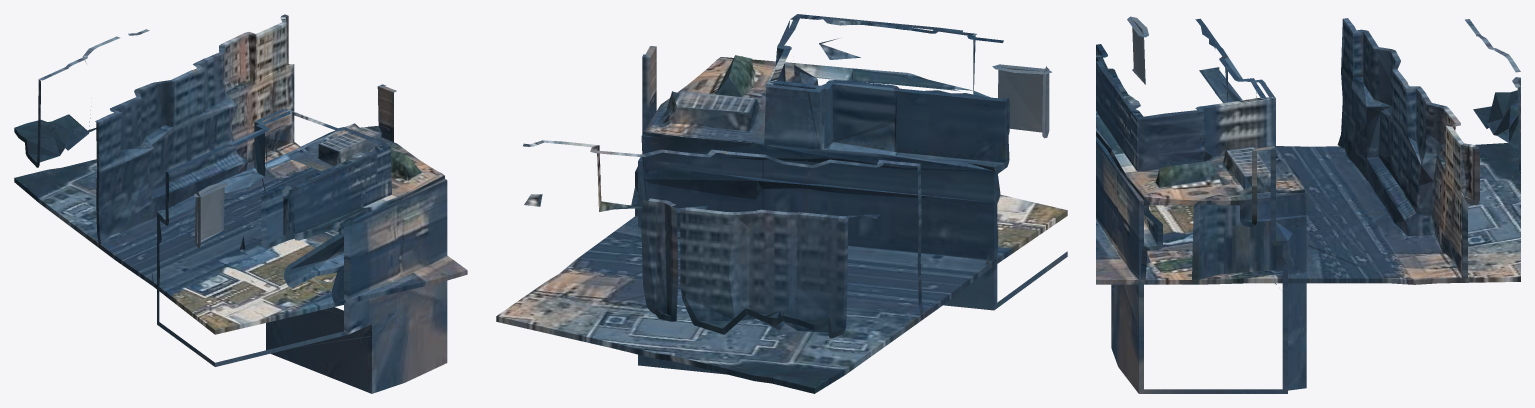
File: chunk_-8_-7.glb
3 renders of one model, left to right at view 1: azimuth 30°, elevation 25°; view 2: azimuth 150°, elevation 25°; view 3: azimuth 270°, elevation 25°, orthographic. The views are drawn at different scales.
Parts seen in each view (by area): view 1: hero-chunk; view 2: hero-chunk; view 3: hero-chunk.
Boxes of the visible parts, x1=… form: hero-chunk: x1=14, y1=14, x2=467, y2=393; hero-chunk: x1=496, y1=14, x2=1067, y2=393; hero-chunk: x1=1096, y1=16, x2=1520, y2=393.
Bounding box in the file's own units: 57.27 × 49.47 × 76.33.
Materials: 1 (1 with a texture image).
